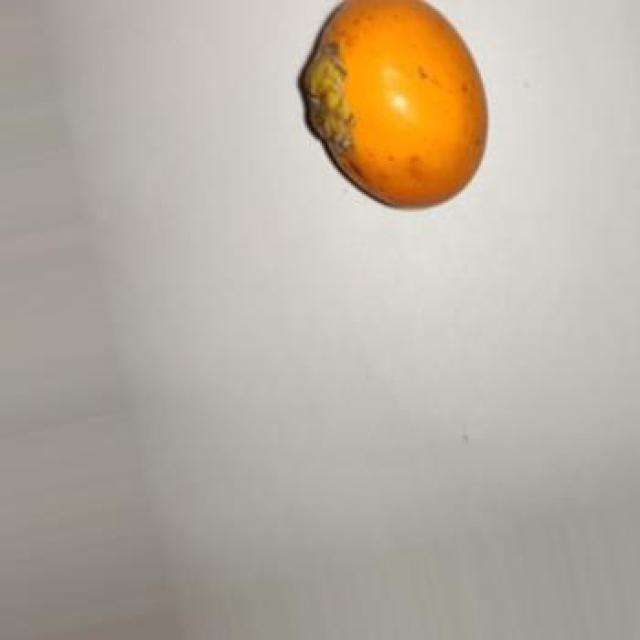good: (298, 0, 490, 212)
